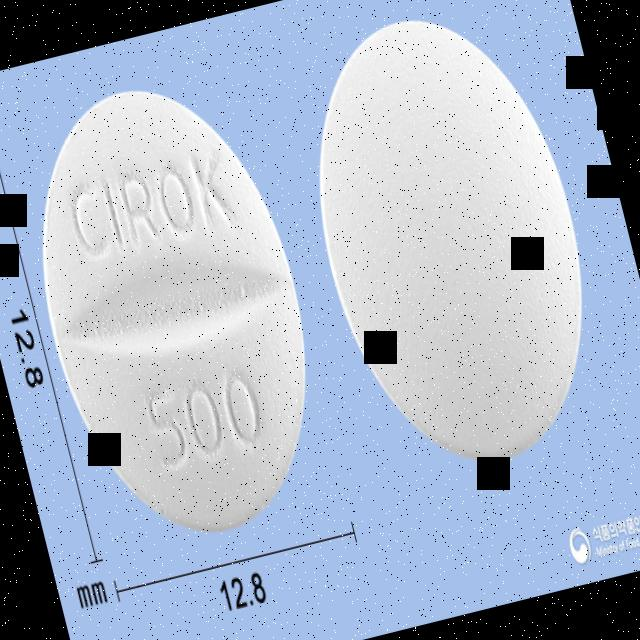Cirok: (0, 54, 355, 568)
